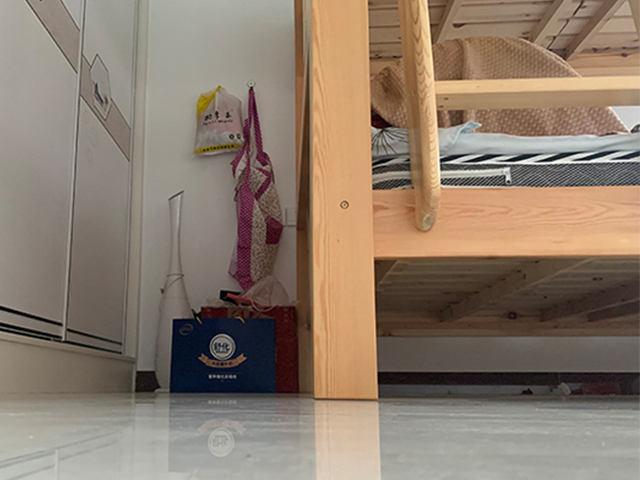bed: (293, 1, 640, 401)
cabinet: (1, 1, 140, 391)
